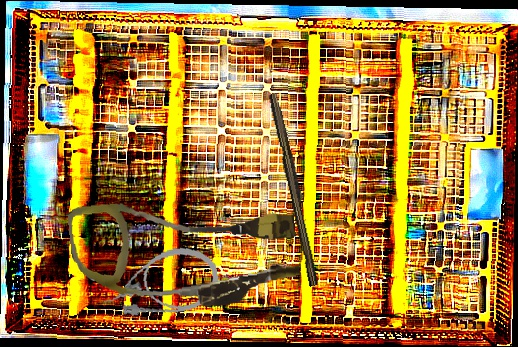Cannula: (66, 184, 303, 321), (97, 242, 223, 324)
Scalpel Handle: (265, 92, 325, 287)
